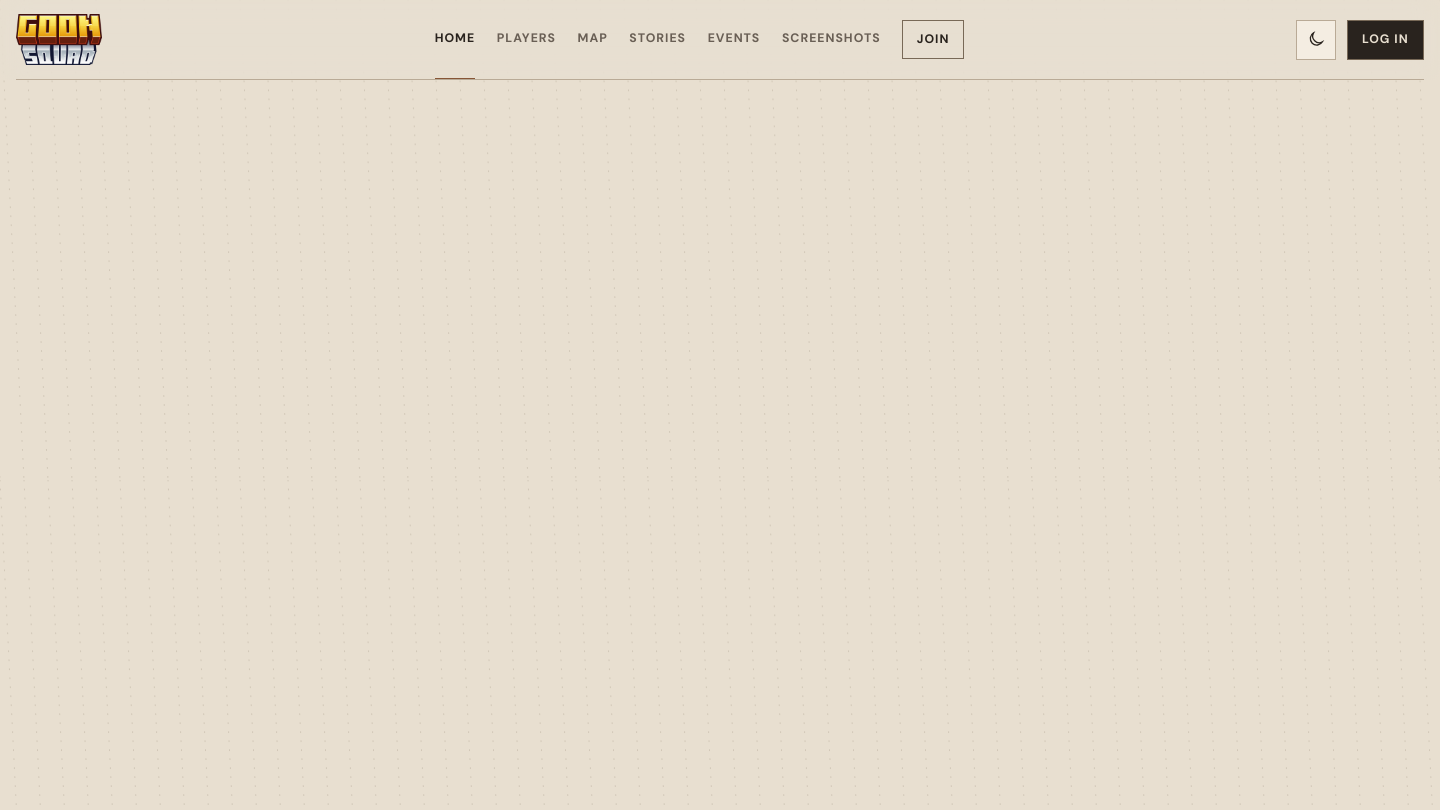
Test: SiteHeader › keeps login and join as separate intents
Click the button "Log In" at coordinates (1385, 40), box top-left (1347, 20), bottom-right (1424, 60)
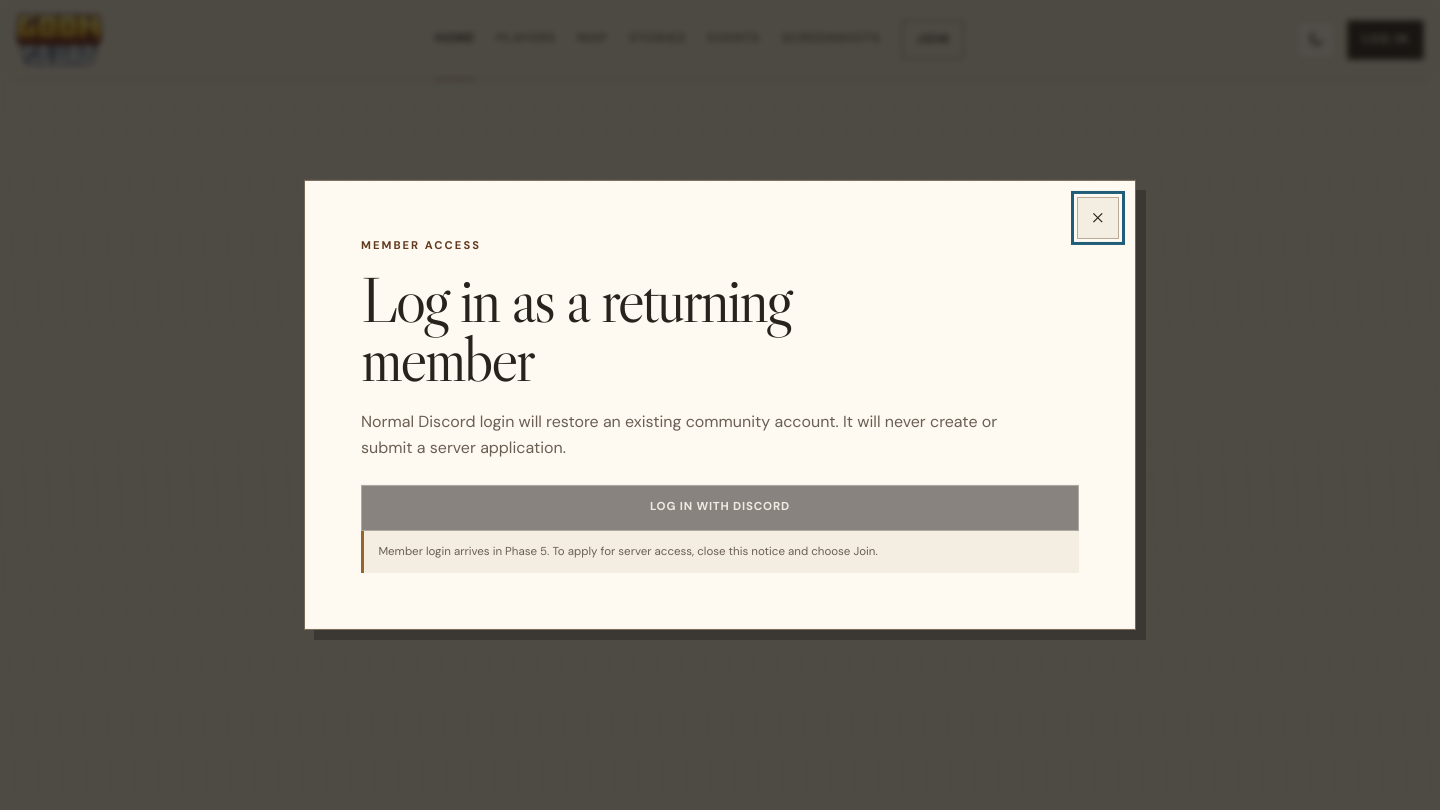
Expected: the dialog "Log in as a returning member" is shown, top-left (304, 180), bottom-right (1136, 630)
